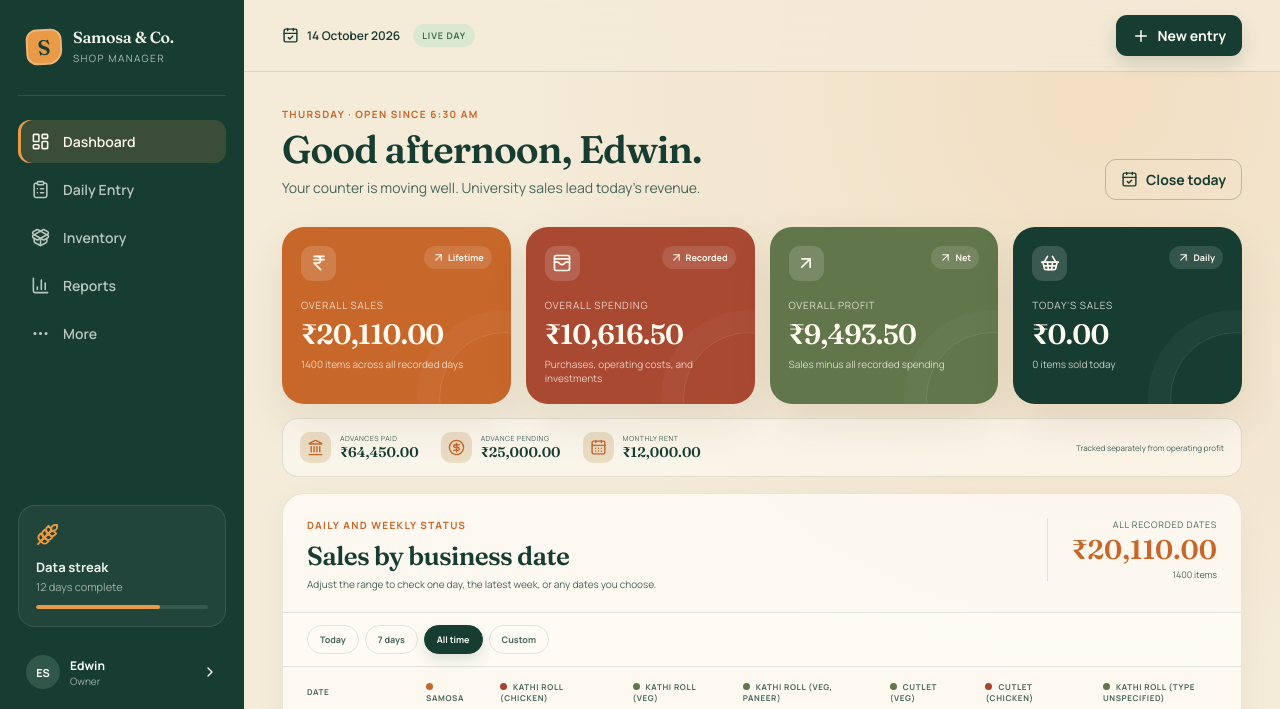
ShopApp › automatically confirms a successful MongoDB save without manual reconciliation
This screenshot has width=1280, height=709.
Click the button "Inventory". click: (122, 238)
box: [18,216,226,259]
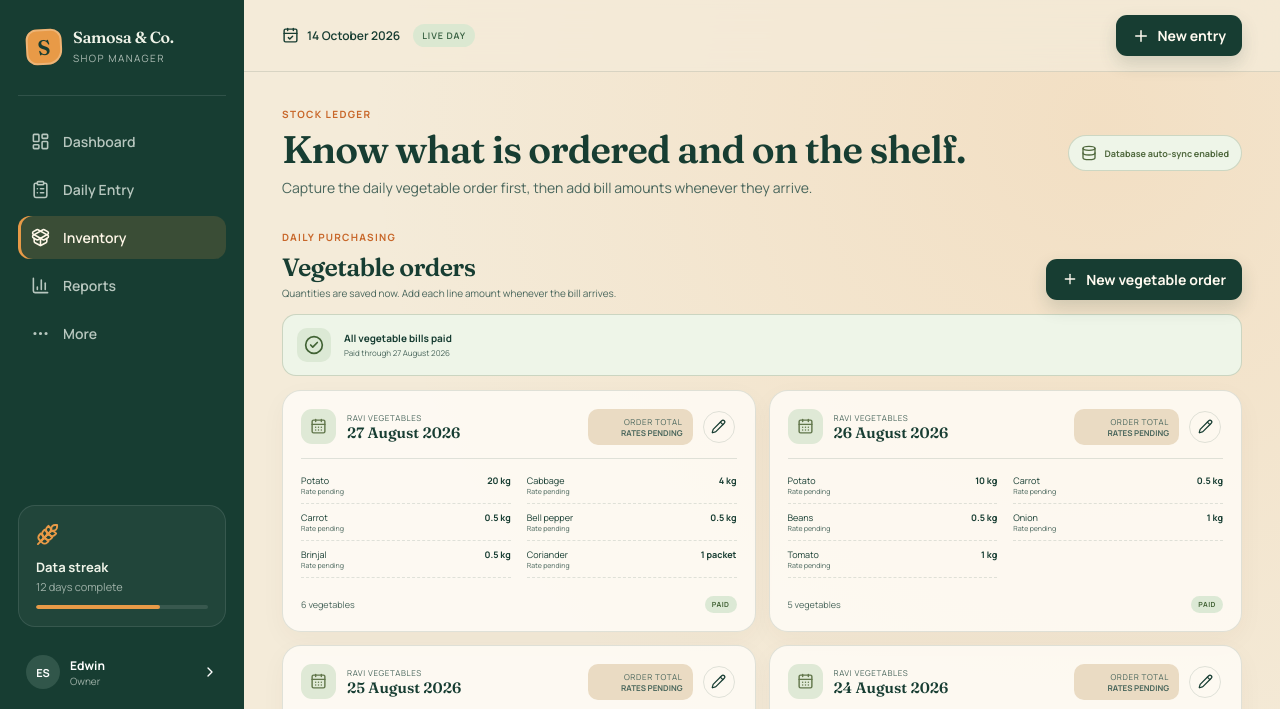
Click the button named "Edit vegetable order 2026-08-27". click: (718, 427)
box: [702,411,734,443]
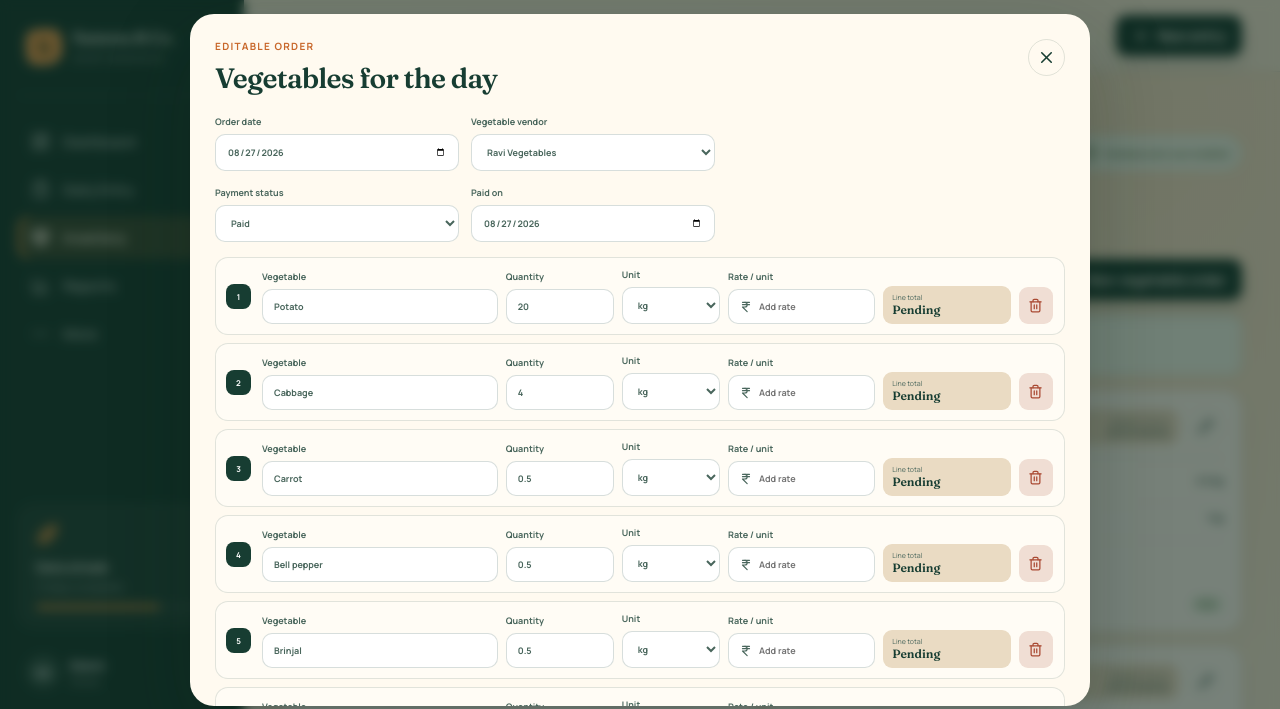
Type "29" into the 1st field labelled "Rate / unit". click: (802, 306)
box: [728,289,875,324]
(page scrolled)
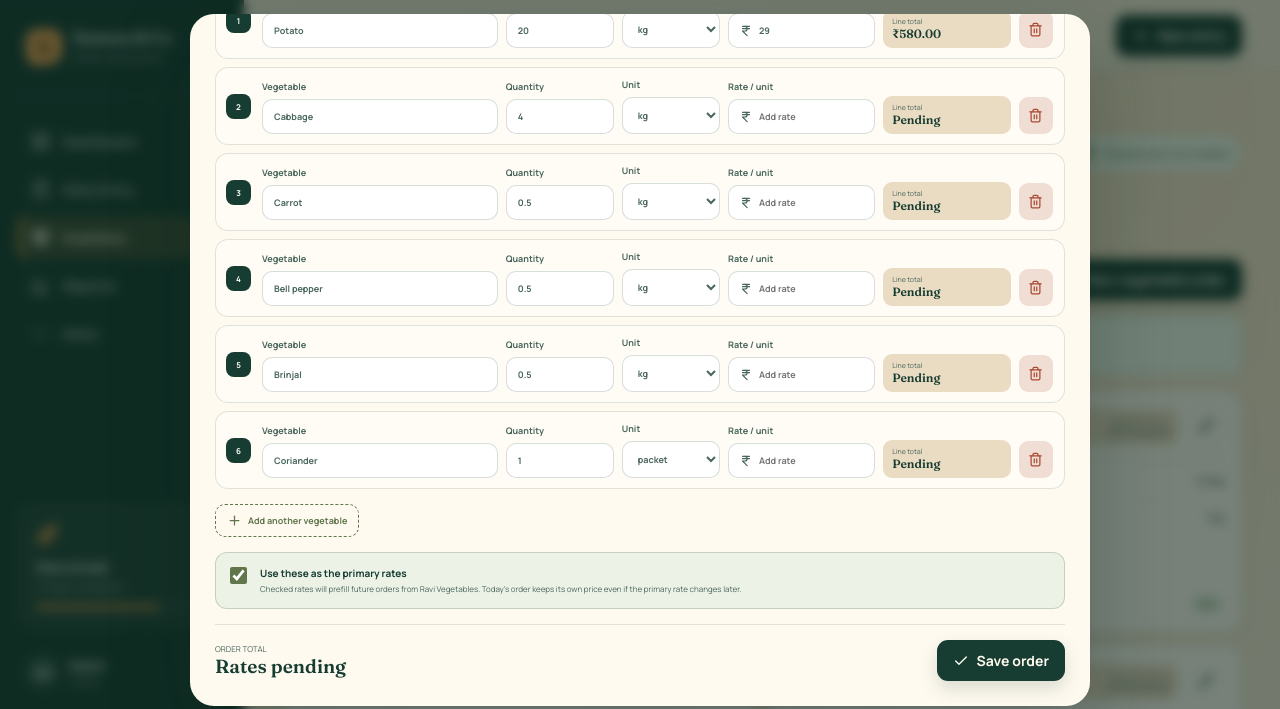
Click the button "Save order". click: (1001, 660)
box: [937,640,1065,681]
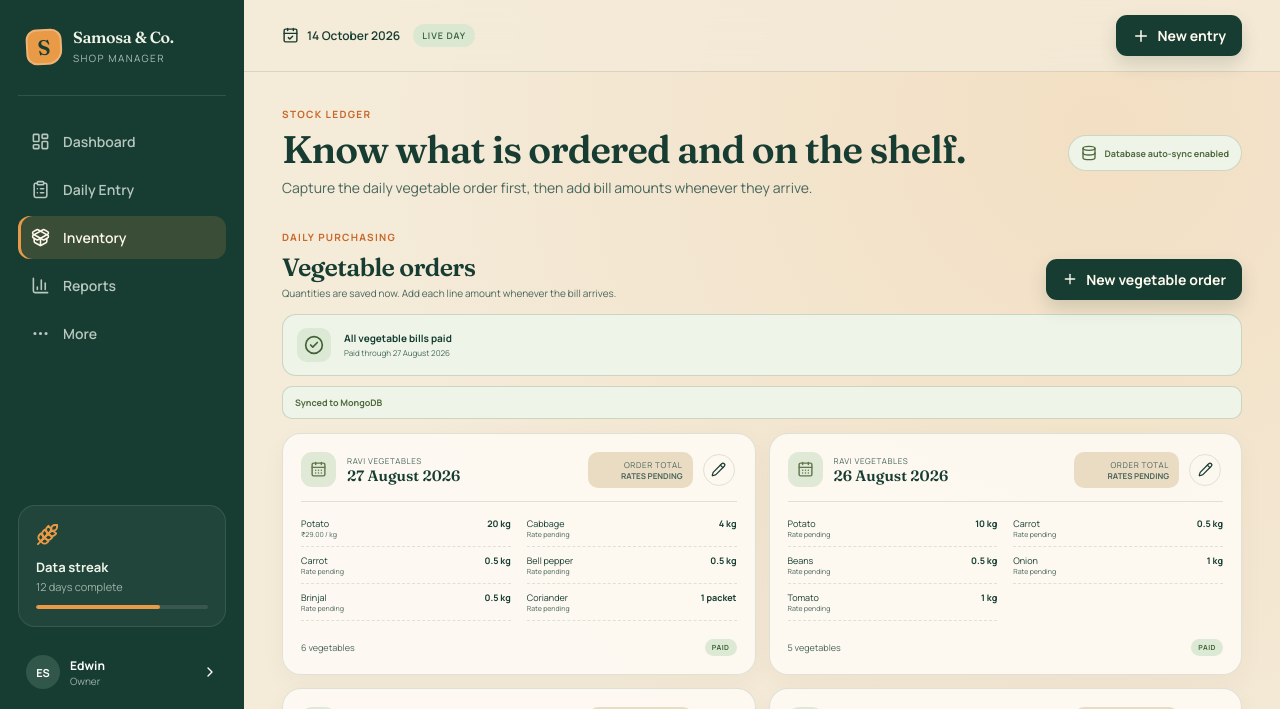
Check: the text "Synced to MongoDB" is shown, box [282,386,1242,419]
